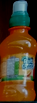orange: (1, 1, 35, 102)
